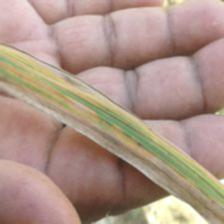2 BacterialBlight: (3, 38, 204, 194)
